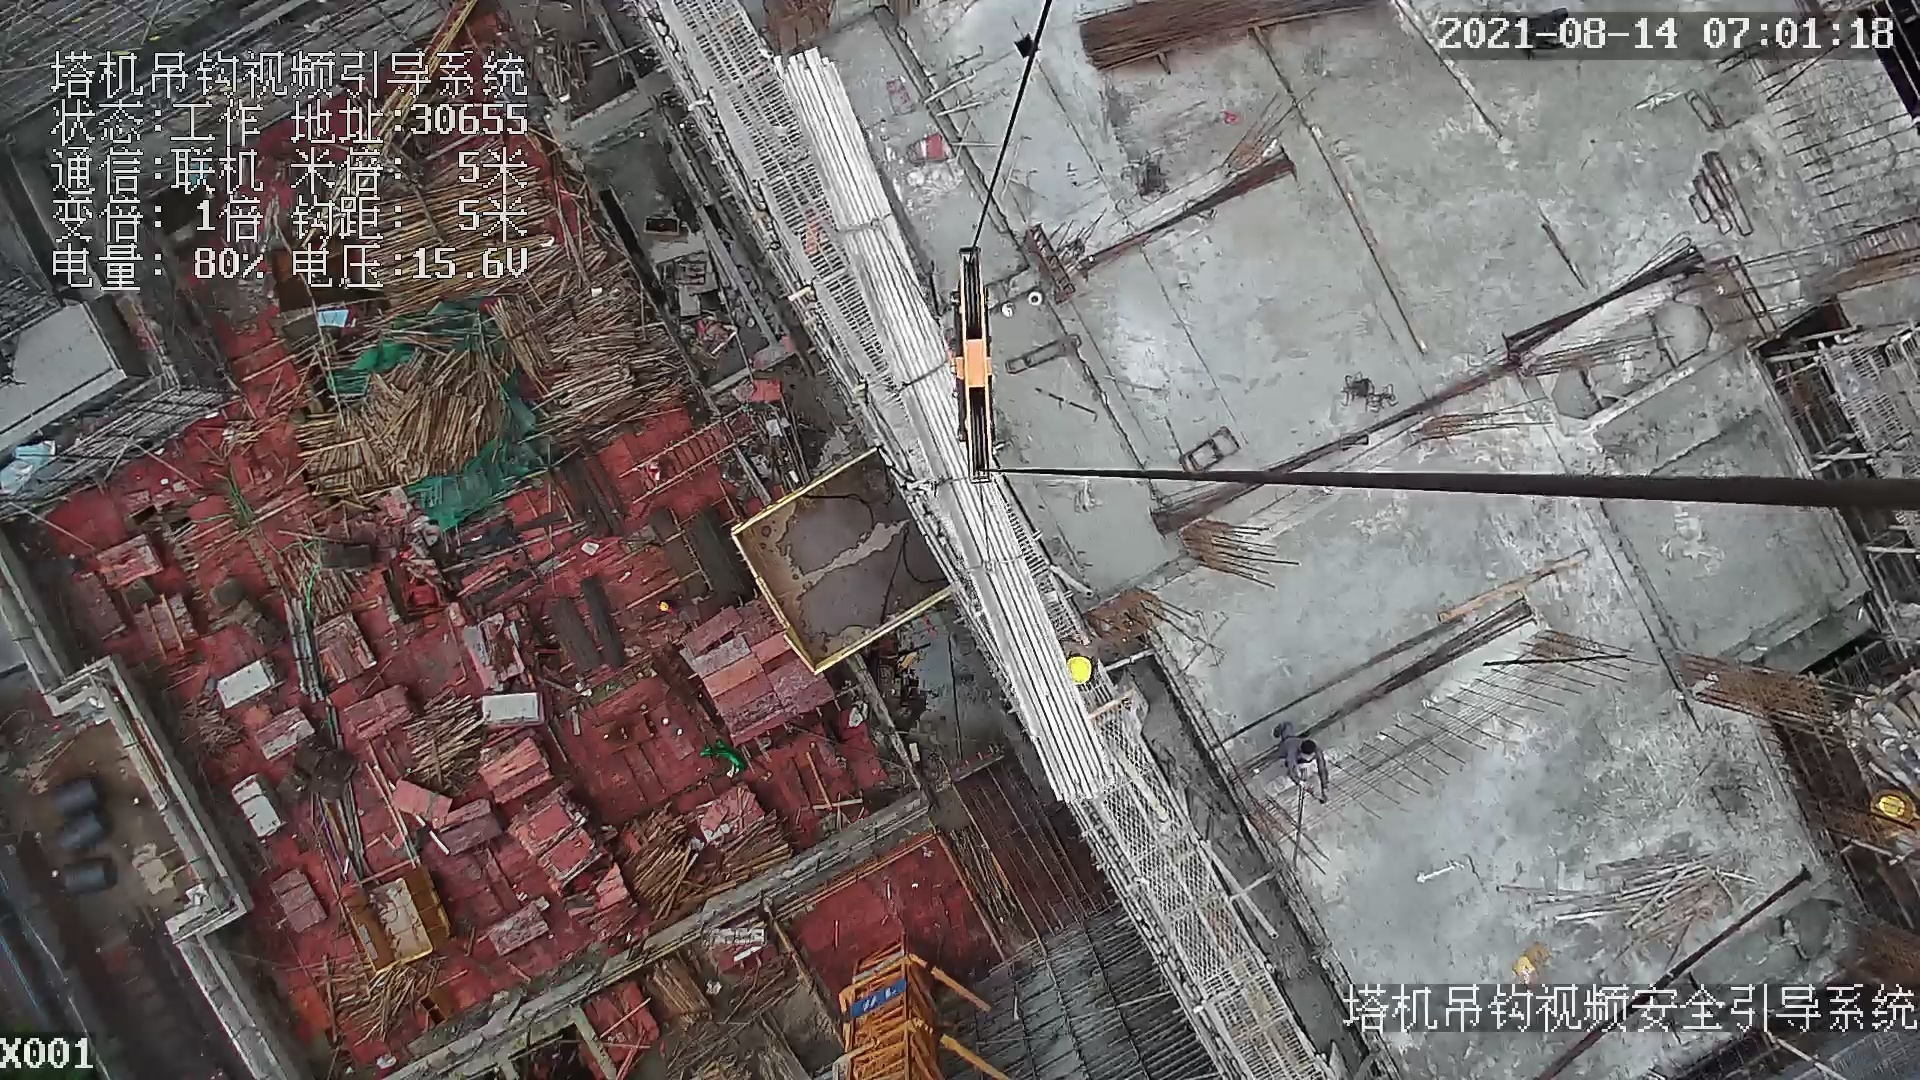helmet: (1065, 647, 1098, 687)
hook: (944, 244, 1003, 489)
person: (1272, 717, 1336, 801), (1053, 631, 1108, 686)
